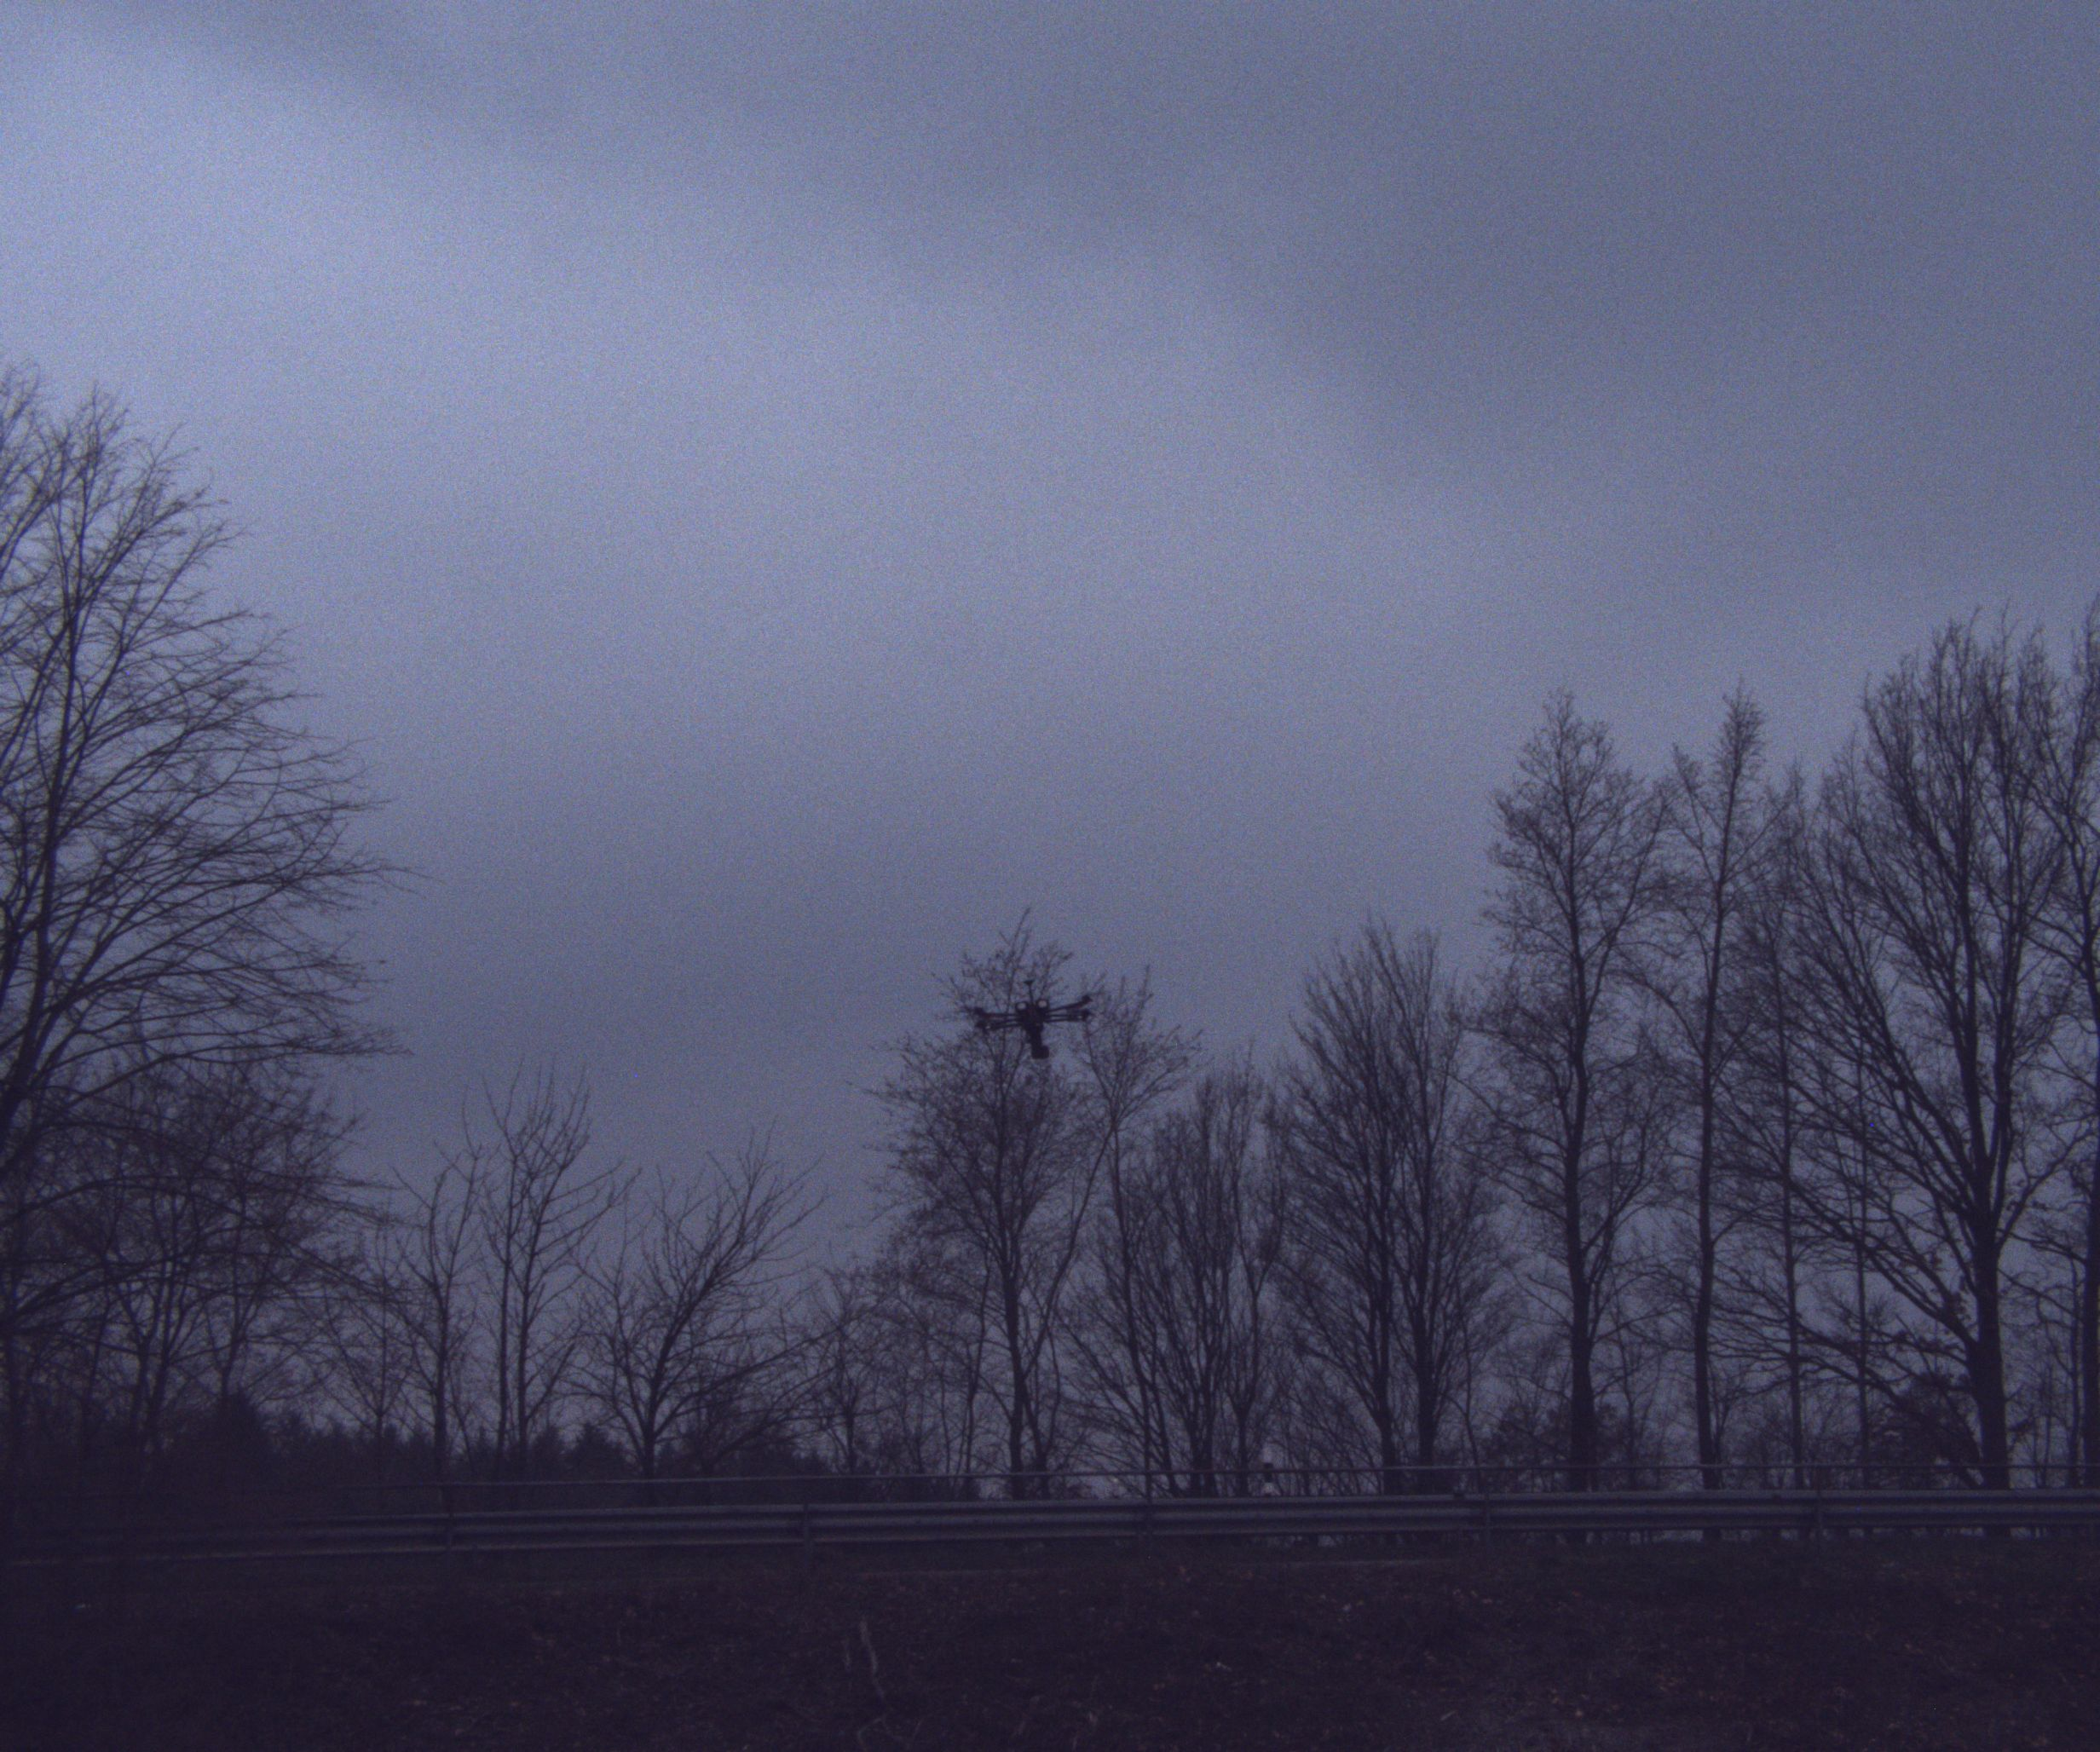Drohne: (947, 971, 1144, 1077)
